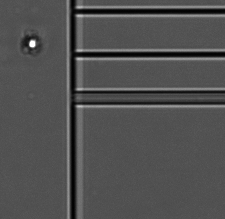Living Cell: (20, 33, 41, 52)
